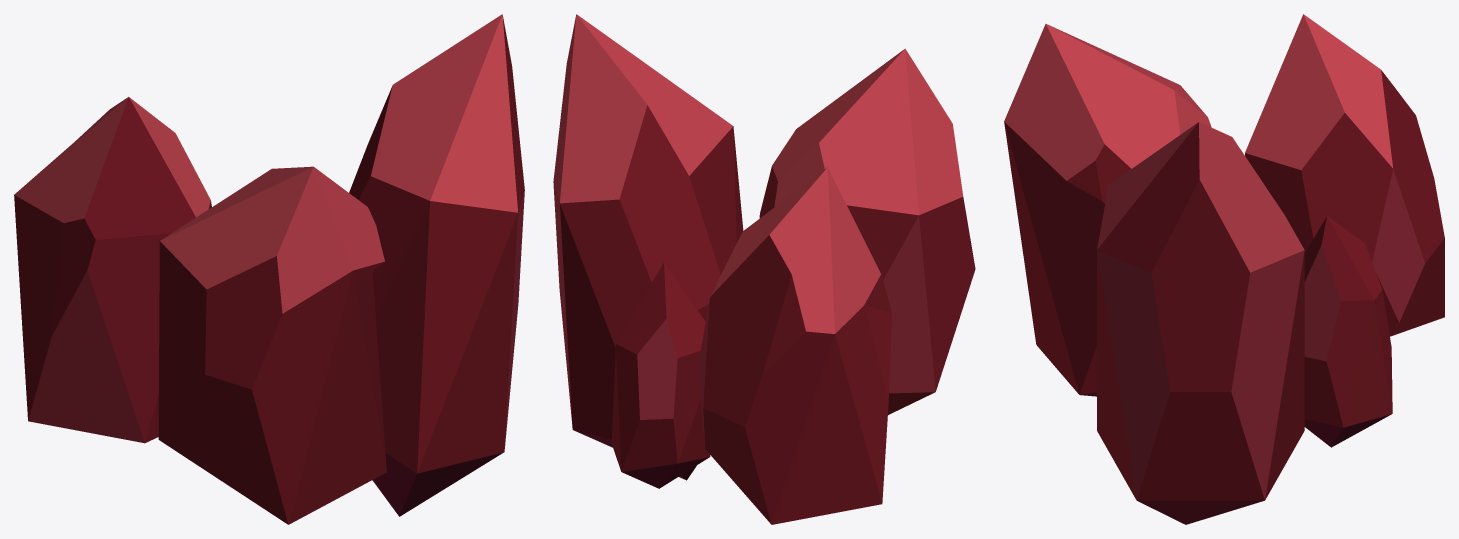
File: CrimsoniteRock3.glb
The picture shows the model from 3 angles, left to right: view 1: azimuth 30°, elevation 25°; view 2: azimuth 150°, elevation 25°; view 3: azimuth 270°, elevation 25°; orthographic projection. The views are drawn at different scales.
Parts seen in each view (by area): view 1: CrimsoniteRock3; view 2: CrimsoniteRock3; view 3: CrimsoniteRock3.
Boxes of the visible parts, x1=… form: CrimsoniteRock3: x1=14, y1=14, x2=524, y2=524; CrimsoniteRock3: x1=553, y1=14, x2=975, y2=524; CrimsoniteRock3: x1=1004, y1=14, x2=1444, y2=524.
Size of the model in its own units: 0.8627 by 0.95 by 0.8343.
